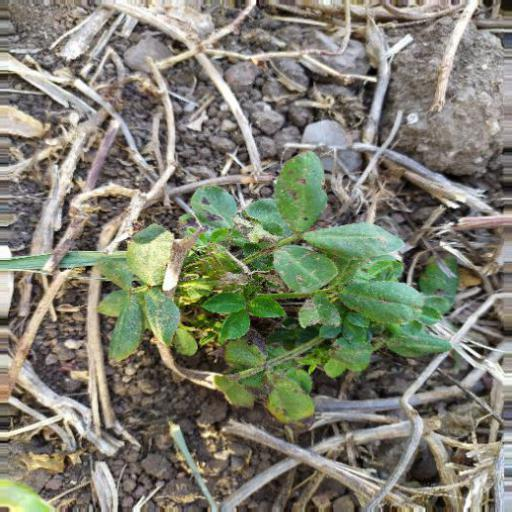weed: (100, 158, 445, 440)
